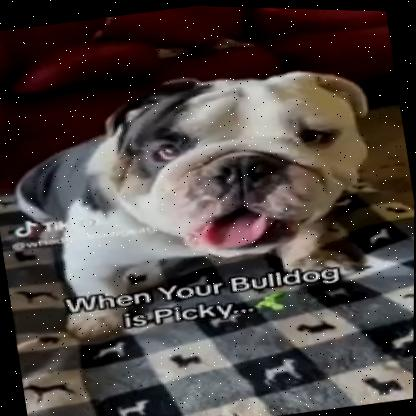dog: (0, 43, 416, 365)
